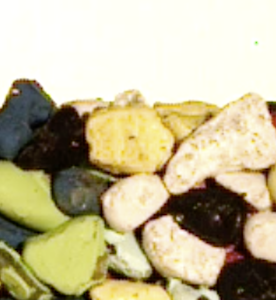black: (14, 105, 89, 173), (173, 187, 245, 248)
blue: (51, 166, 112, 218)
green: (21, 214, 109, 296), (97, 227, 153, 284)
white: (162, 92, 276, 195), (139, 214, 224, 288), (99, 174, 165, 232)
yellow: (86, 106, 171, 175), (153, 99, 220, 146)
